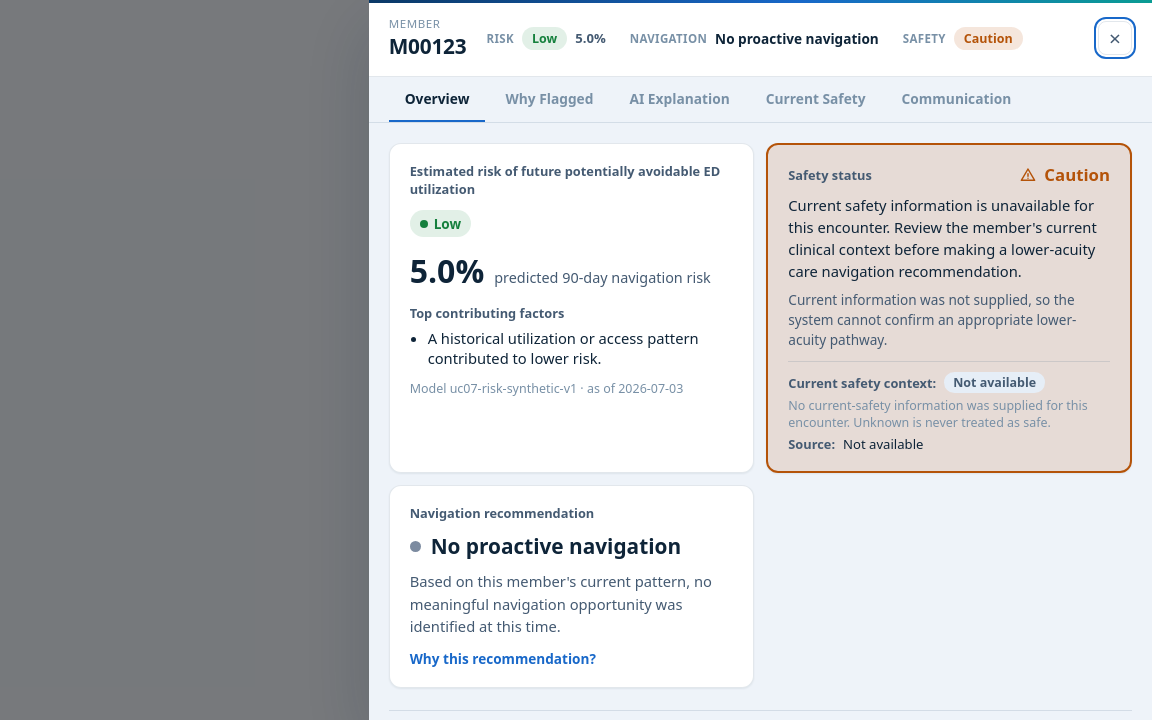
Test: MemberDetailsDrawer (member workspace) › switches to the Why Flagged tab and shows the SHAP explanation there
Step 1. Click the tab "Why Flagged" → (549, 100), box [489,77,609,122]
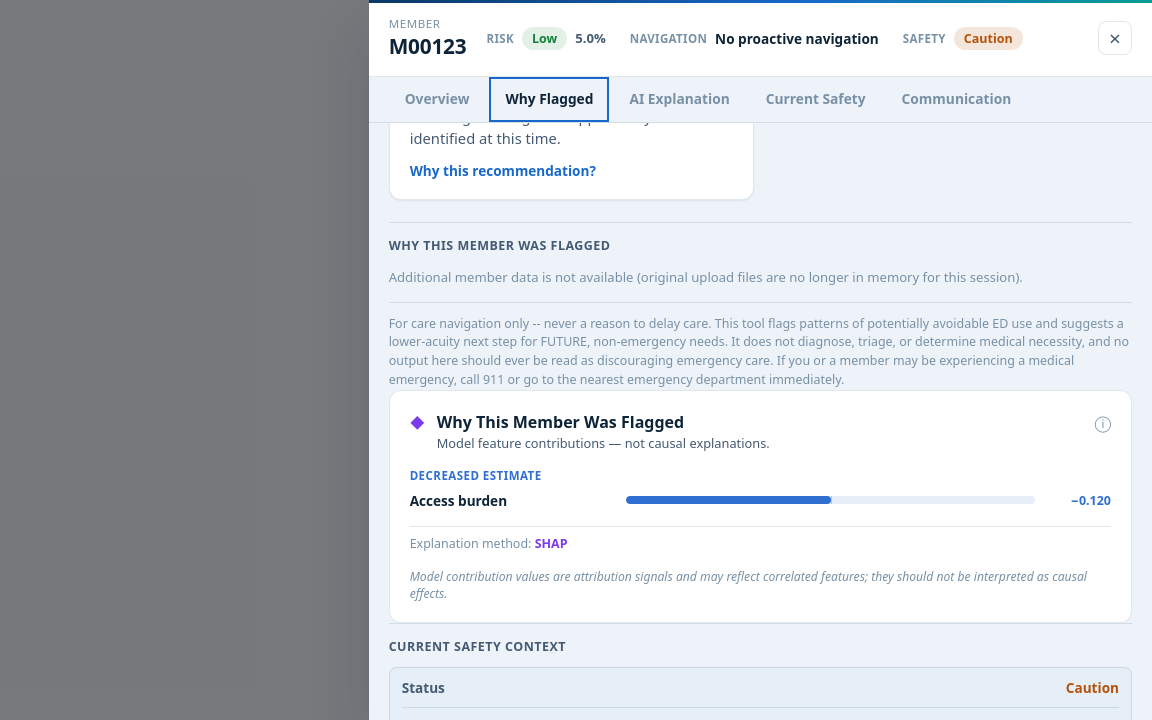
Now the heading "Why This Member Was Flagged" is shown, box [437,410,684,432]
